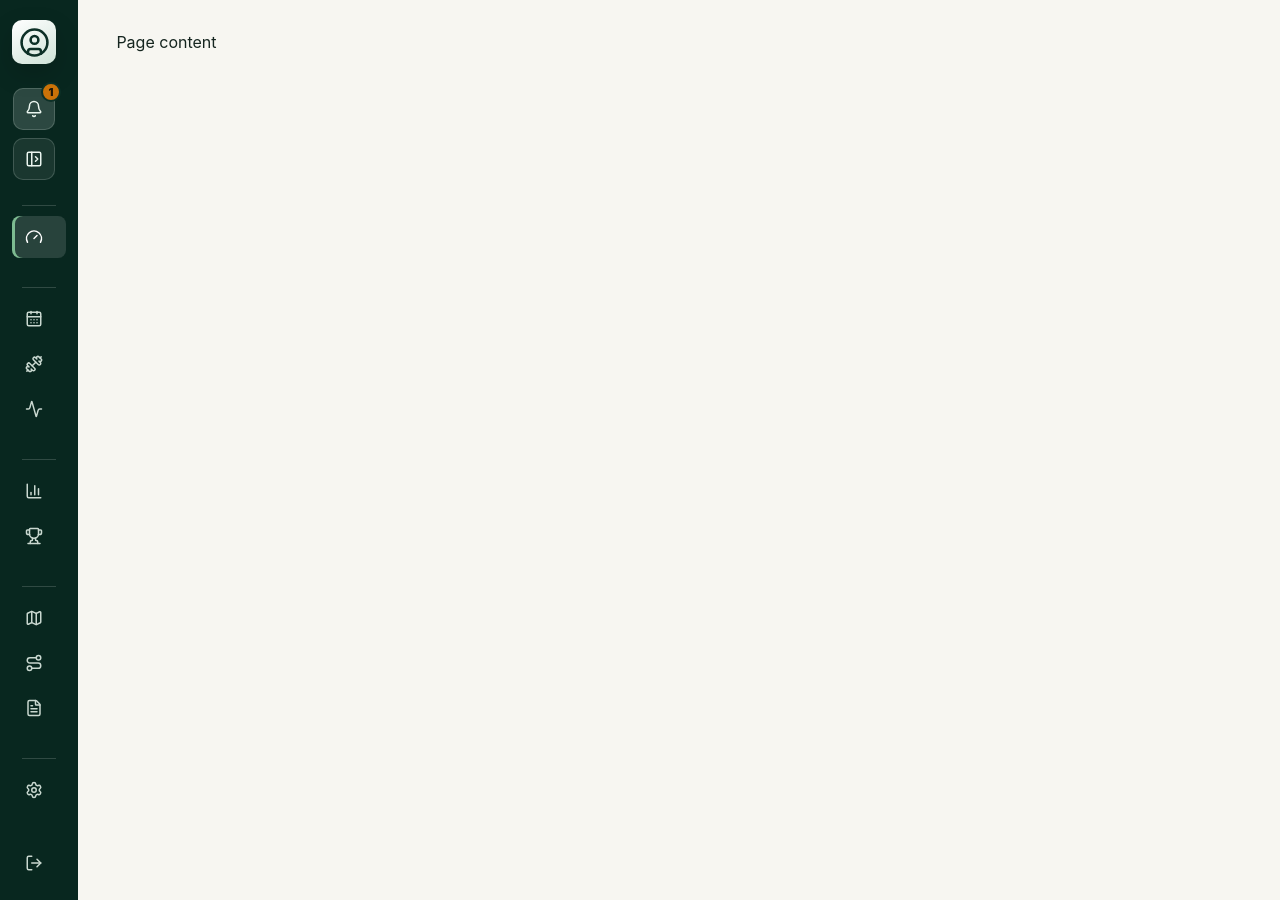
Test: AppShell › deletes notifications from the popover
The width and height of the screenshot is (1280, 900).
Click the button named "Notifikace, 1 nepřečtená": (34, 109) [13,88,55,130]
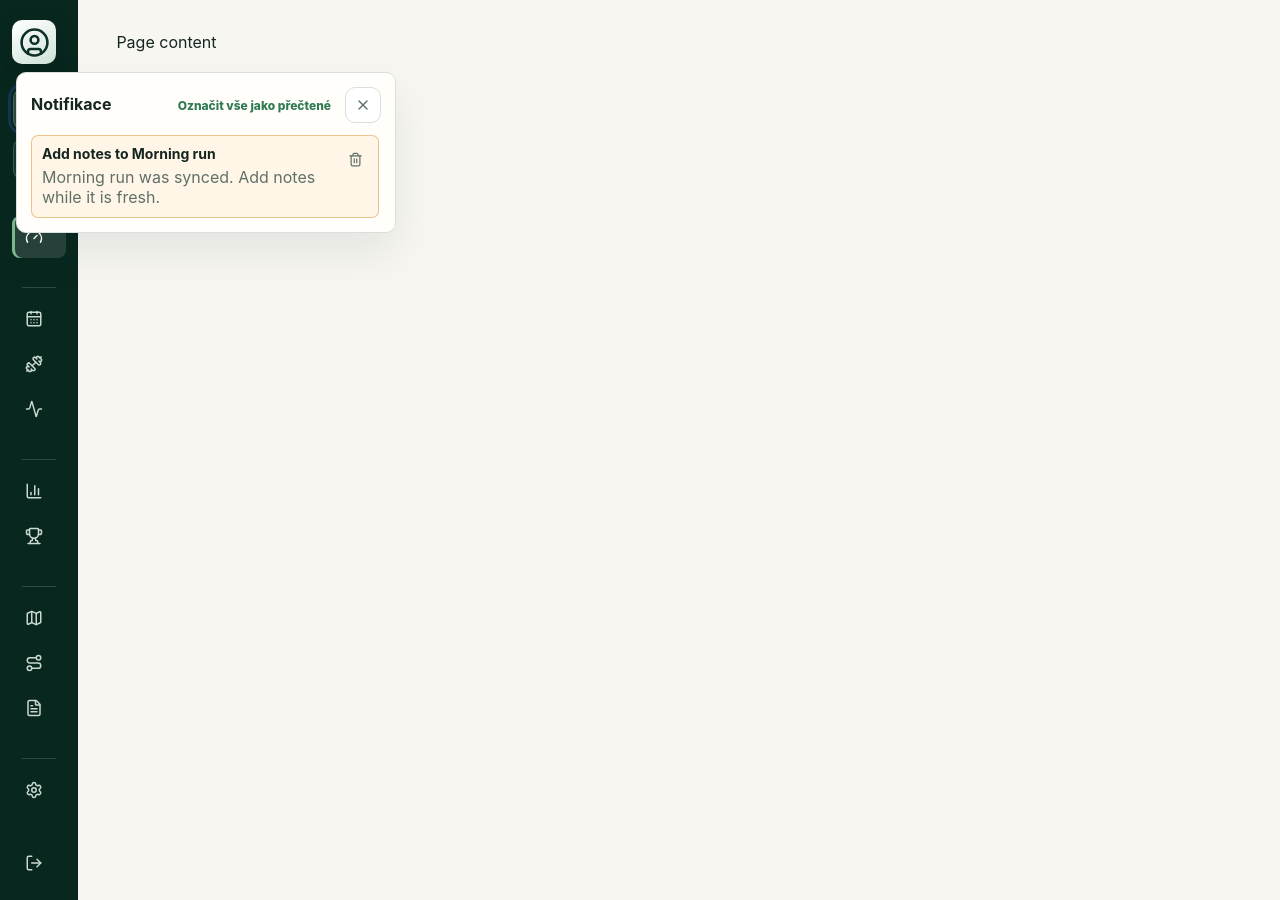
Check: the text "Add notes to Morning run" is shown, box [42,145,216,162]
Click the button named "Odstranit": (355, 159) [338,142,372,176]
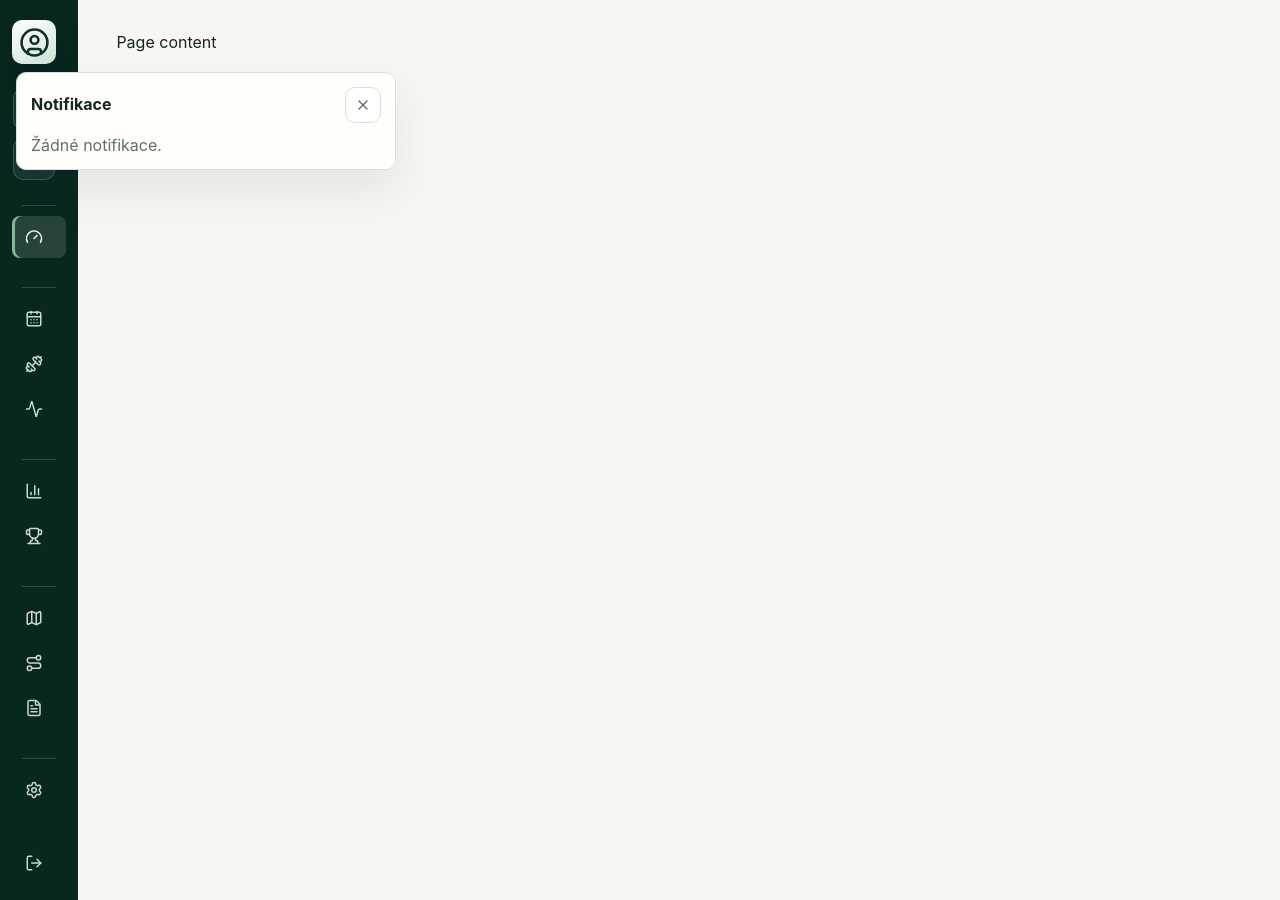
Check: the link "Add notes to Morning run" is gone
